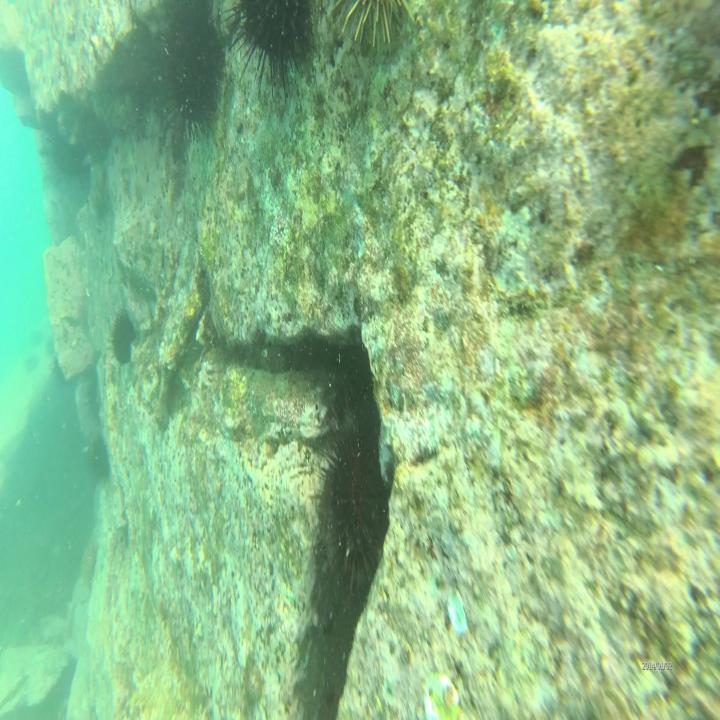echinus: (307, 390, 389, 587), (154, 5, 234, 139), (241, 0, 312, 98), (331, 0, 415, 57), (105, 307, 138, 362), (86, 431, 109, 481)
